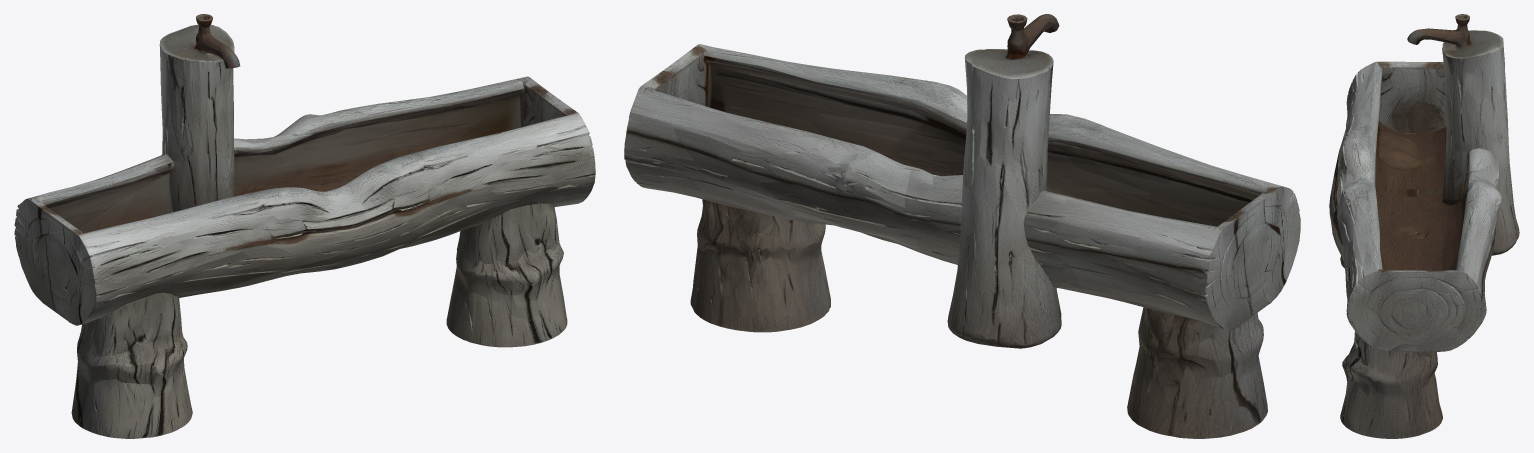
3 renders of one model, left to right at view 1: azimuth 30°, elevation 25°; view 2: azimuth 150°, elevation 25°; view 3: azimuth 270°, elevation 25°, orthographic. The views are drawn at different scales.
Size of the model in its own units: 1.9 by 1.23 by 0.7272.
1 material, 1 textured.
